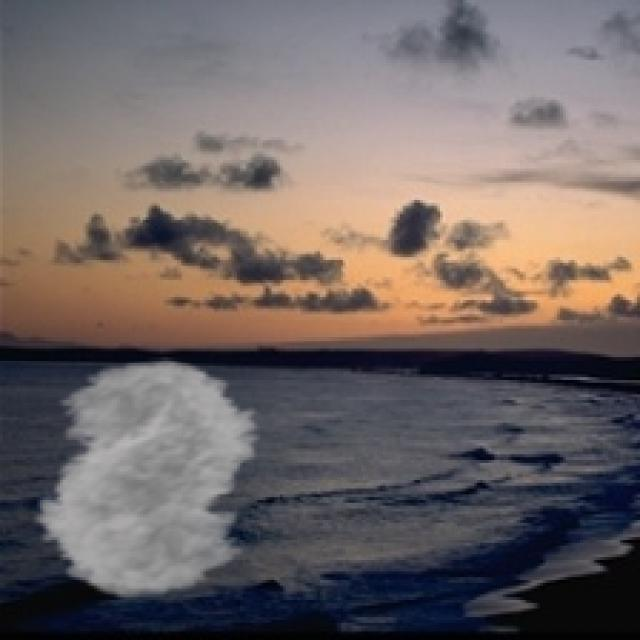Smoke: (14, 357, 289, 600)
